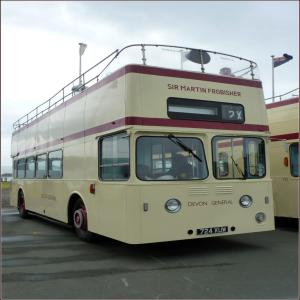Vehicle-registration-plate: (196, 227, 230, 237)
